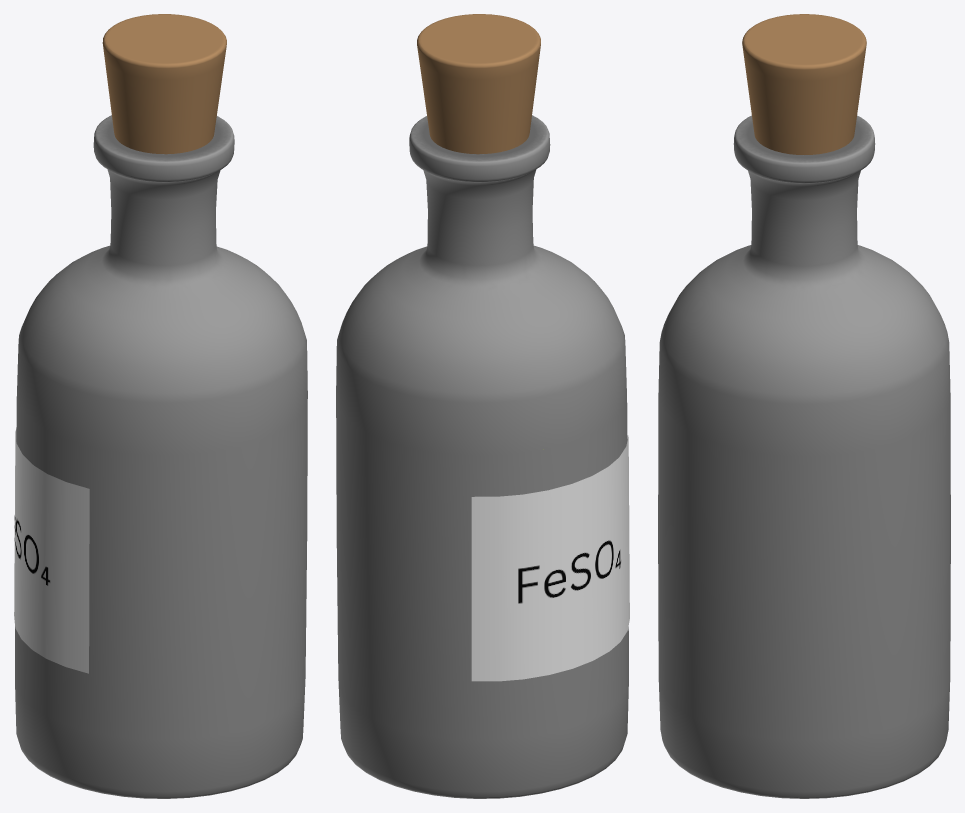
File: FeSO4.fbx
The picture shows the model from 3 angles, left to right: view 1: azimuth 30°, elevation 25°; view 2: azimuth 150°, elevation 25°; view 3: azimuth 270°, elevation 25°; orthographic projection.
Visible parts, largest first — view 1: Bttle001_Bttle_0.010; view 2: Bttle001_Bttle_0.010; view 3: Bttle001_Bttle_0.010.
Boxes of the visible parts, box(x1,y1,x2,y2) form: Bttle001_Bttle_0.010: box(14, 14, 307, 798); Bttle001_Bttle_0.010: box(336, 14, 629, 798); Bttle001_Bttle_0.010: box(658, 14, 950, 798).
Bounding box in the file's own units: 11.44 × 30.04 × 11.35.
Materials: 5 (2 with a texture image).
